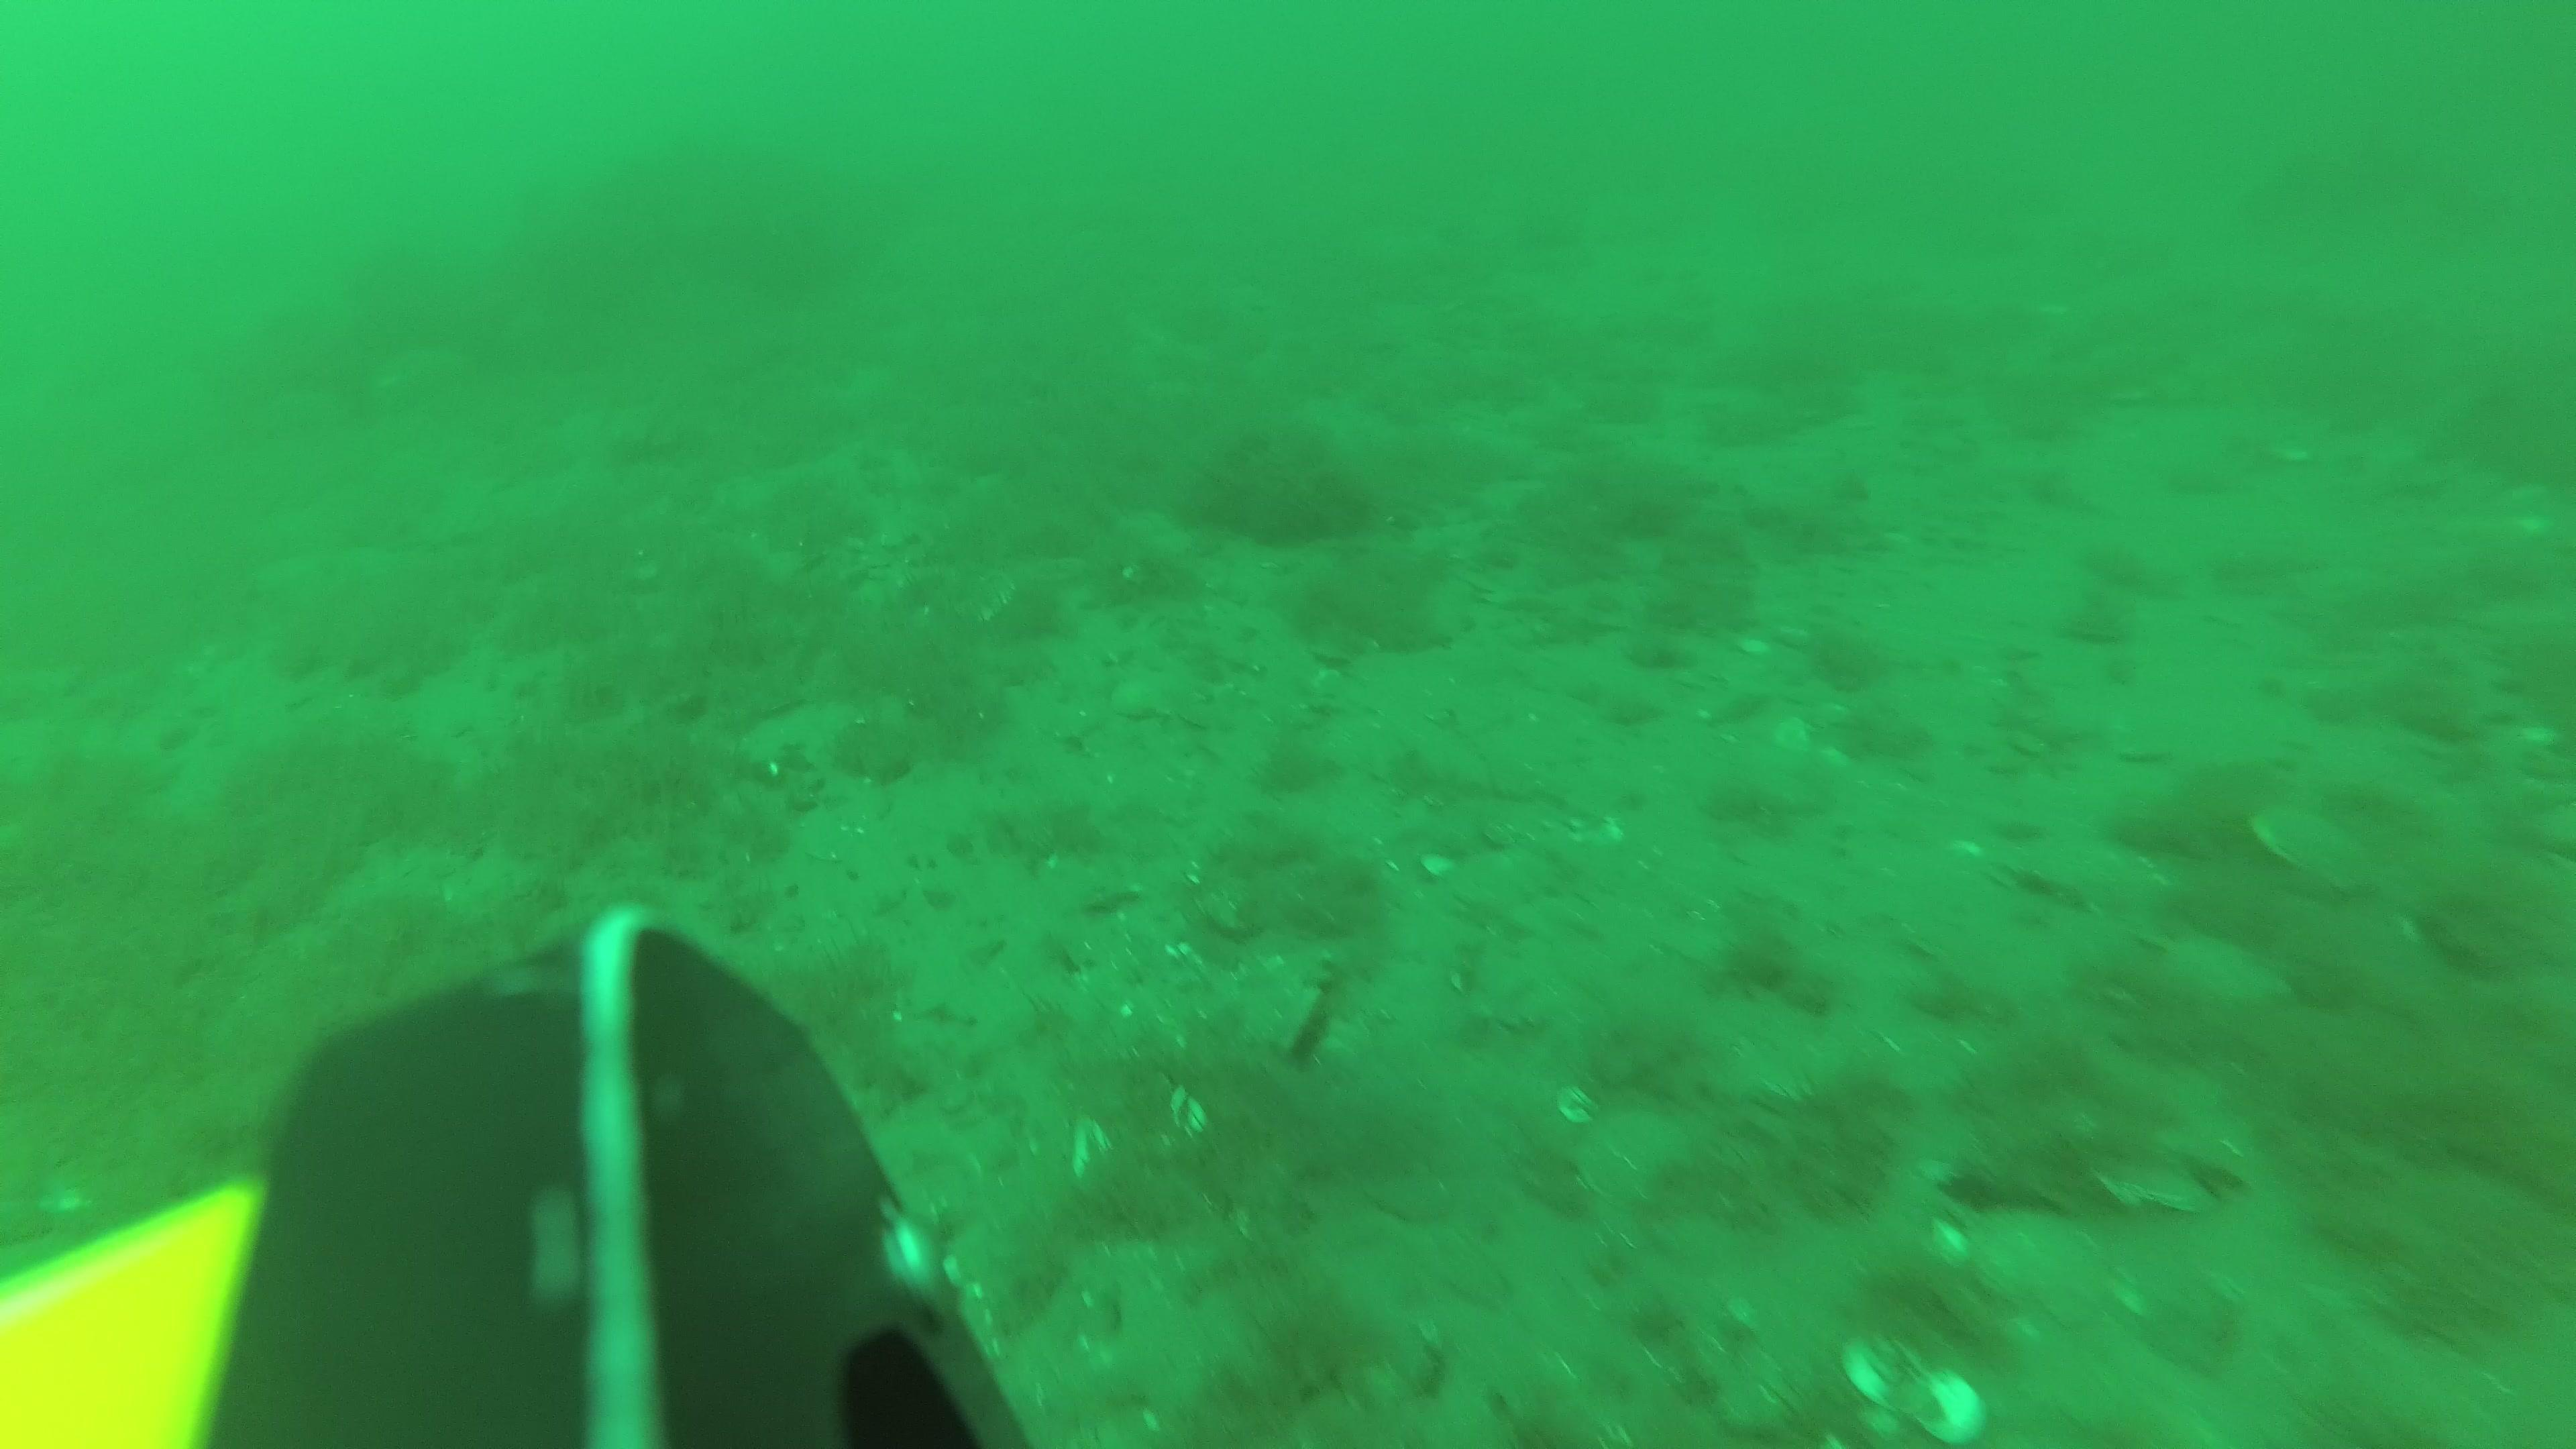scallop: (1960, 1201, 2121, 1332), (2249, 800, 2383, 902), (2005, 833, 2160, 915), (1582, 1109, 1695, 1210), (1440, 839, 1566, 922), (2150, 936, 2282, 1012), (2091, 1141, 2220, 1219), (1104, 663, 1212, 725)
